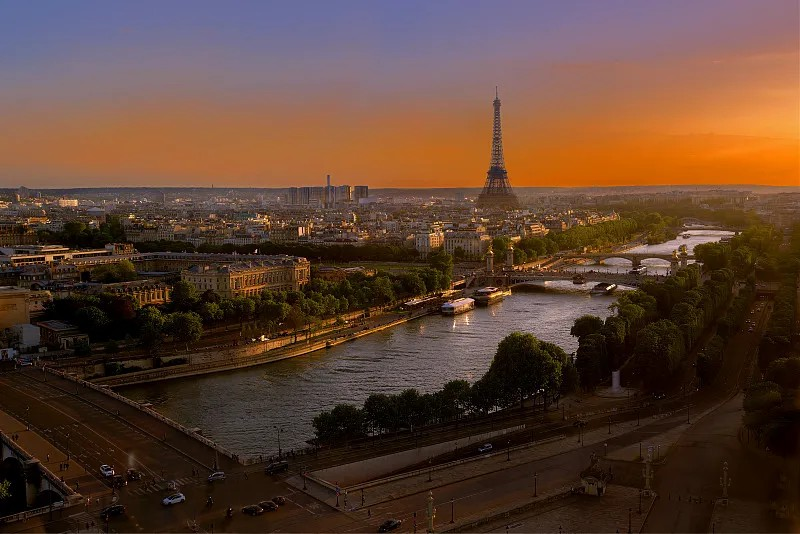Eiffel: (476, 86, 520, 208)
